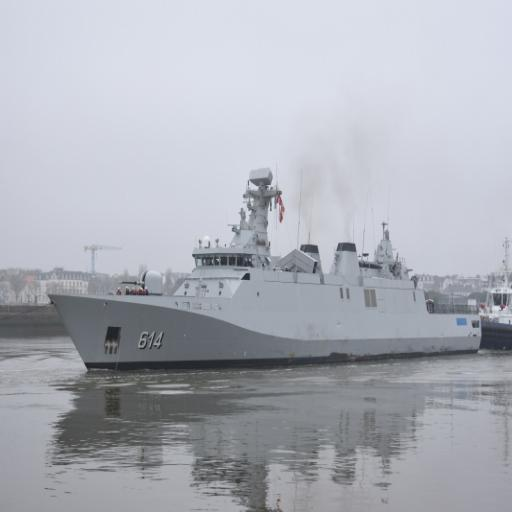Fragata: (47, 163, 484, 379)
